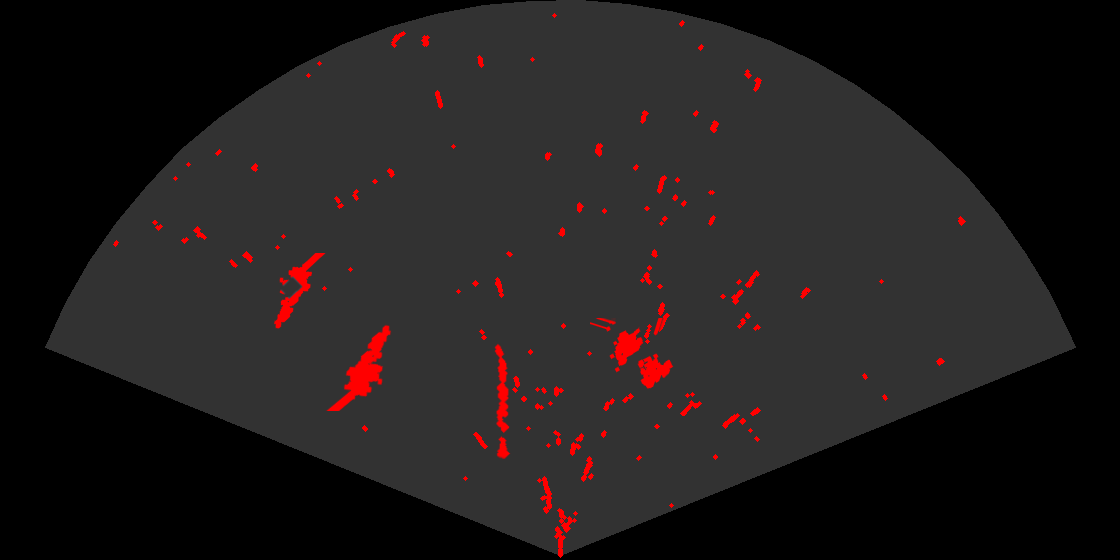cage: (590, 318, 675, 390)
chain: (493, 342, 512, 459)
frogman: (324, 323, 393, 411), (272, 253, 327, 330)
